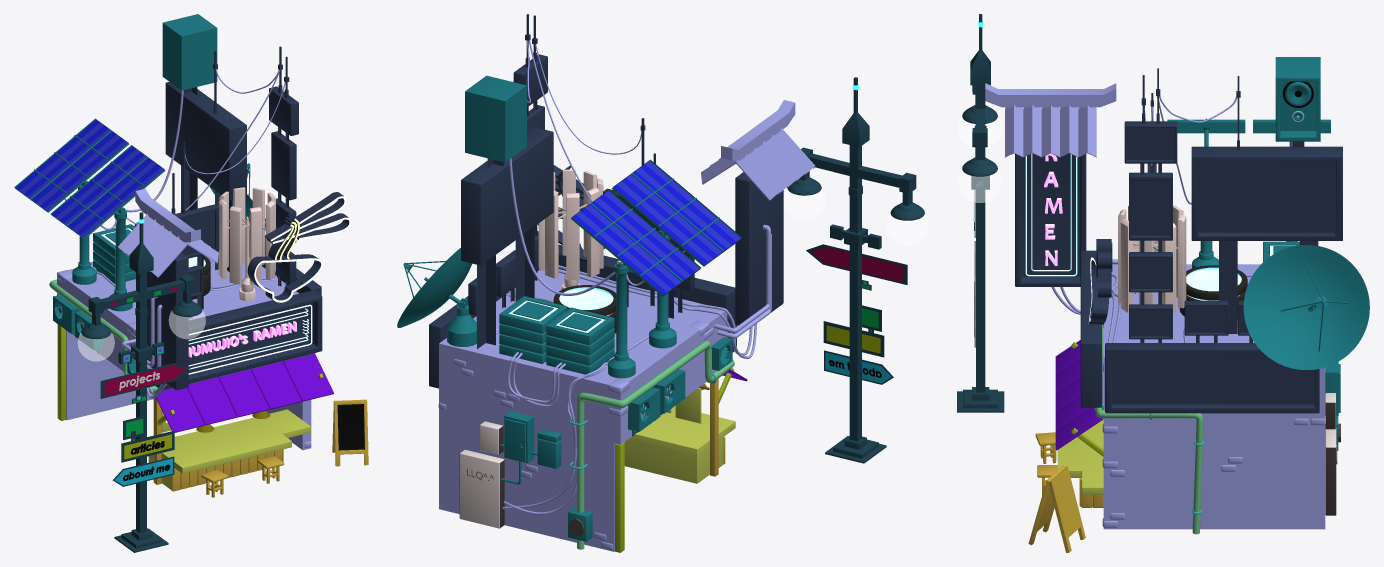
Rendered from shopAndLight.glb.
The picture shows the model from 3 angles, left to right: view 1: azimuth 30°, elevation 25°; view 2: azimuth 150°, elevation 25°; view 3: azimuth 270°, elevation 25°; orthographic projection. The views are drawn at different scales.
Visible parts, largest first — view 1: 立方体.007, 正面遮挡棚子, 正面招牌, 立方体.097, 立方体.029, 立方体, 立方体.108, 立方体.113, 柱体.005, 立方体.102, 侧面牌子, 立方体.067 (+28 smaller); view 2: 立方体.007, 立方体.097, 立方体, 侧面牌子, 立方体.108, 立方体.113, 立方体.029, 立方体.102, 柱体.005, 立方体.067, 顶部电池.001, 立方体.046 (+31 smaller); view 3: 立方体.007, 电视信号塔转动部分, 立方体.141, 立方体.139, 侧面牌子, 立方体.097, 立方体.067, 立方体.016, 立方体, 柱体.005, 立方体.102, 正面遮挡棚子 (+29 smaller).
Boxes of the visible parts, x1=… form: 立方体.007: x1=57, y1=257, x2=311, y2=450; 正面遮挡棚子: x1=155, y1=353, x2=333, y2=432; 正面招牌: x1=155, y1=290, x2=322, y2=389; 立方体.097: x1=165, y1=81, x2=246, y2=200; 立方体.029: x1=148, y1=409, x2=310, y2=490; 立方体: x1=88, y1=212, x2=194, y2=552; 立方体.108: x1=14, y1=118, x2=128, y2=212; 立方体.113: x1=50, y1=145, x2=165, y2=239; 柱体.005: x1=218, y1=187, x2=275, y2=284; 立方体.102: x1=162, y1=14, x2=217, y2=90; 侧面牌子: x1=147, y1=252, x2=188, y2=390; 立方体.067: x1=118, y1=213, x2=218, y2=277; 立方体.007: x1=439, y1=269, x2=727, y2=551; 立方体.097: x1=461, y1=127, x2=553, y2=265; 立方体: x1=799, y1=77, x2=916, y2=463; 侧面牌子: x1=735, y1=172, x2=783, y2=325; 立方体.108: x1=571, y1=189, x2=700, y2=296; 立方体.113: x1=612, y1=159, x2=742, y2=266; 立方体.029: x1=624, y1=406, x2=735, y2=483; 立方体.102: x1=465, y1=75, x2=526, y2=162; 柱体.005: x1=538, y1=169, x2=603, y2=280; 立方体.067: x1=701, y1=128, x2=815, y2=200; 顶部电池.001: x1=546, y1=307, x2=614, y2=374; 立方体.046: x1=459, y1=449, x2=504, y2=528; 立方体.007: x1=1103, y1=264, x2=1325, y2=529; 电视信号塔转动部分: x1=1243, y1=245, x2=1369, y2=369; 立方体.141: x1=1198, y1=161, x2=1335, y2=232; 立方体.139: x1=1112, y1=353, x2=1314, y2=404; 侧面牌子: x1=1015, y1=153, x2=1086, y2=286; 立方体.097: x1=1191, y1=146, x2=1342, y2=240; 立方体.067: x1=1005, y1=104, x2=1096, y2=157; 立方体.016: x1=1105, y1=343, x2=1319, y2=413; 立方体: x1=957, y1=14, x2=1004, y2=412; 柱体.005: x1=1118, y1=205, x2=1186, y2=313; 立方体.102: x1=1275, y1=57, x2=1320, y2=141; 正面遮挡棚子: x1=1055, y1=328, x2=1103, y2=450.
Size of what is drawn, in the model's own units: 14.16 by 16.25 by 13.26.
